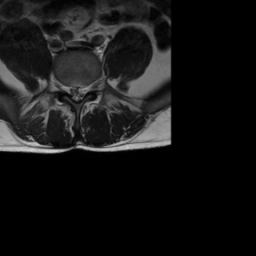CCS_normal: (73, 79, 80, 108)
LFS_normal: (86, 76, 92, 97)
LLS_normal: (80, 79, 86, 103)
RFS_normal: (61, 76, 67, 98)
RLS_normal: (67, 78, 73, 105)
